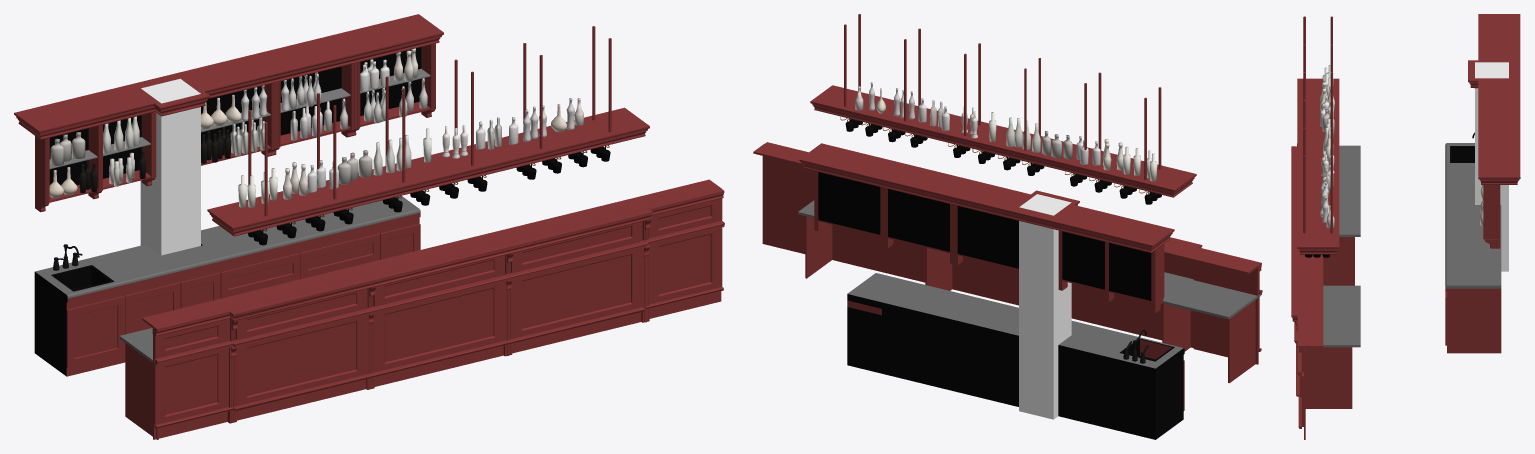
The model's file is Bar.fbx.
3 views of the same model, side by side, from view 1: azimuth 30°, elevation 25°; view 2: azimuth 150°, elevation 25°; view 3: azimuth 270°, elevation 25° (orthographic). The views are drawn at different scales.
Parts seen in each view (by area): view 1: barnaya stojka, zadnyaya polka, bar yashiki, Group025, butulki na polke, Box03; view 2: barnaya stojka, bar yashiki, zadnyaya polka, Group025, Box03, Box01, Box06, Box02; view 3: barnaya stojka, bar yashiki, zadnyaya polka, Group025, Box01, Box07, Cylinder145, Cylinder150.
Boxes of the visible parts, bbox=[...] form: barnaya stojka: bbox=[119, 107, 724, 439]; zadnyaya polka: bbox=[14, 14, 443, 212]; bar yashiki: bbox=[34, 196, 420, 376]; Group025: bbox=[140, 78, 583, 255]; butulki na polke: bbox=[49, 48, 427, 198]; Box03: bbox=[125, 343, 158, 439]; barnaya stojka: bbox=[753, 85, 1262, 364]; bar yashiki: bbox=[847, 273, 1184, 439]; zadnyaya polka: bbox=[799, 143, 1174, 313]; Group025: bbox=[855, 82, 1157, 419]; Box03: bbox=[1228, 300, 1255, 383]; Box01: bbox=[805, 216, 832, 278]; Box06: bbox=[1162, 303, 1190, 351]; Box02: bbox=[925, 247, 952, 290]; barnaya stojka: bbox=[1291, 78, 1360, 439]; bar yashiki: bbox=[1445, 143, 1501, 353]; zadnyaya polka: bbox=[1468, 14, 1520, 248]; Group025: bbox=[1320, 62, 1508, 271]; Box01: bbox=[1299, 347, 1352, 408]; Box07: bbox=[1323, 237, 1354, 285]; Cylinder145: bbox=[1303, 155, 1305, 233]; Cylinder150: bbox=[1330, 155, 1332, 233].
Size of the model in its own units: 6493 by 3115 by 2700.
